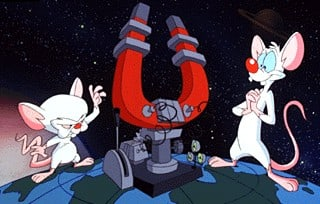cerebro: (17, 72, 105, 186)
pink: (208, 24, 310, 192)
